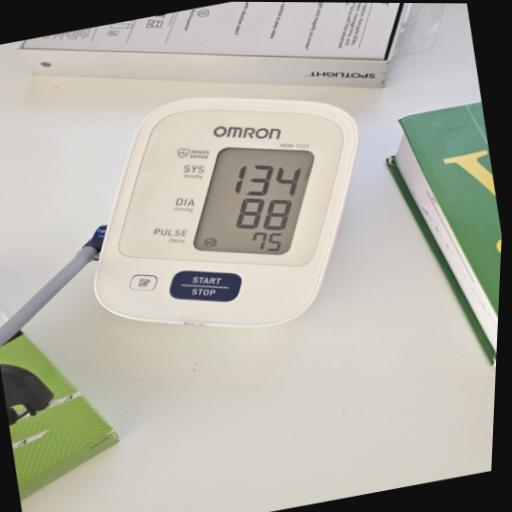blood pressure monitor: (58, 67, 395, 358)
